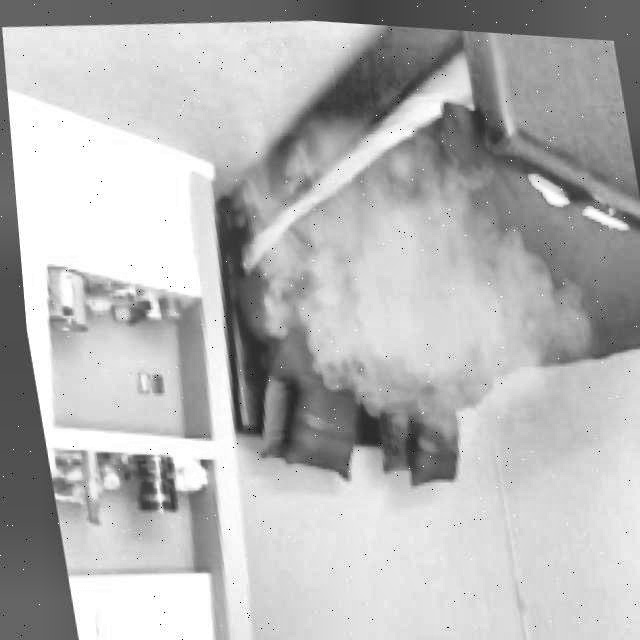Smoke: (193, 66, 622, 463)
